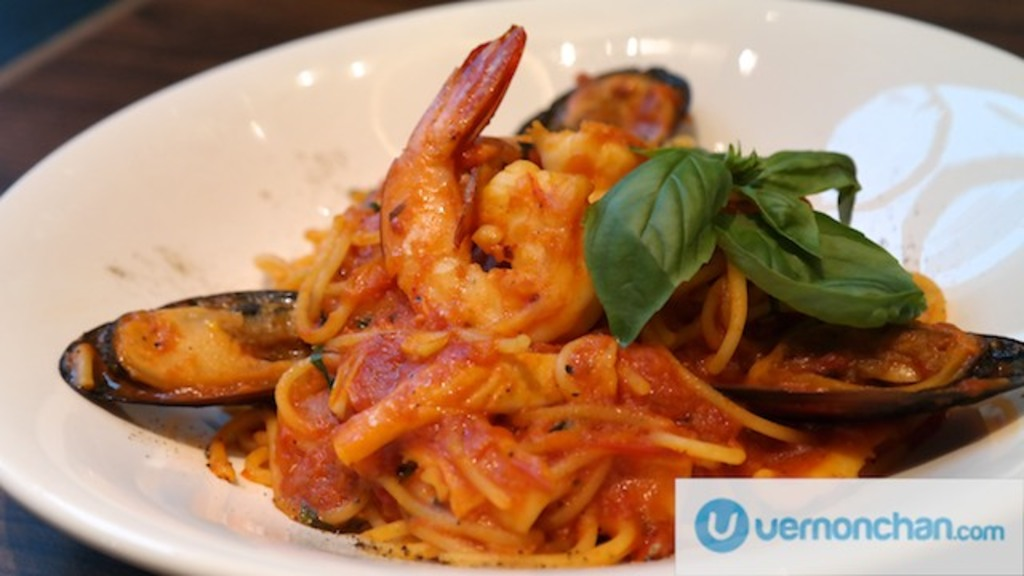pasta: (234, 62, 989, 534)
